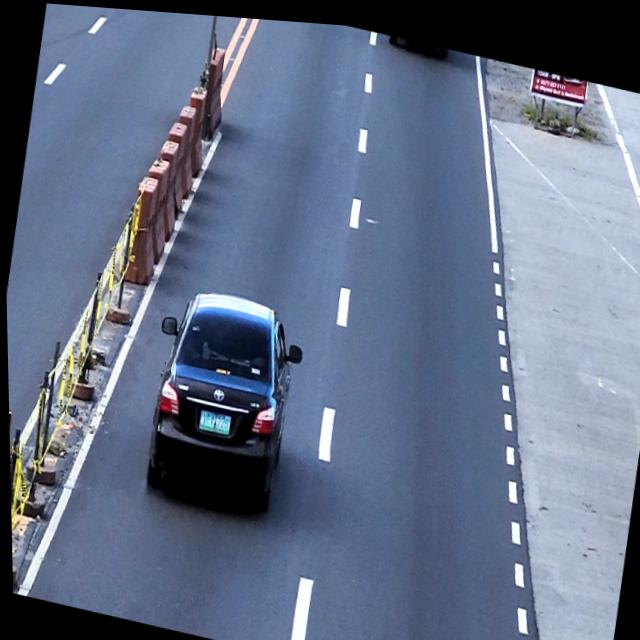Car: (134, 275, 311, 514)
License-Plate: (195, 403, 231, 434)
